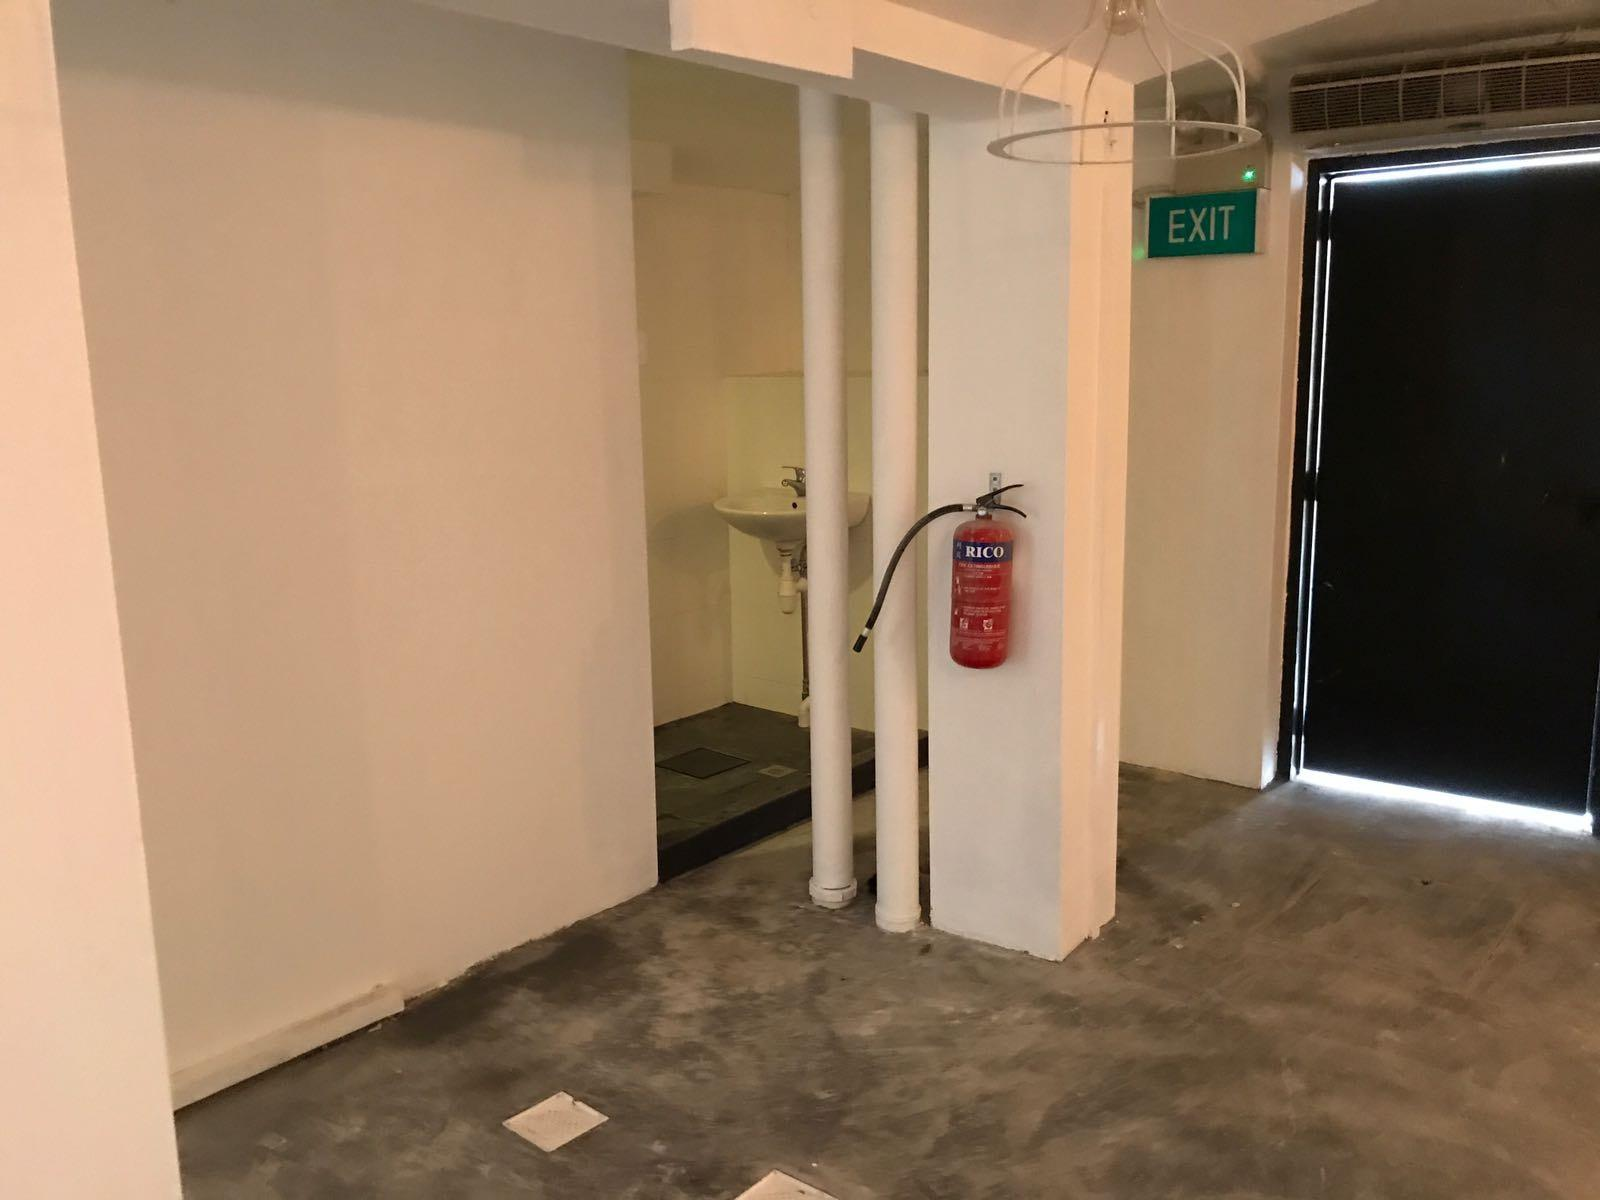exit: (1283, 142, 1596, 828)
unlit_exit_sign: (1140, 182, 1259, 258)
